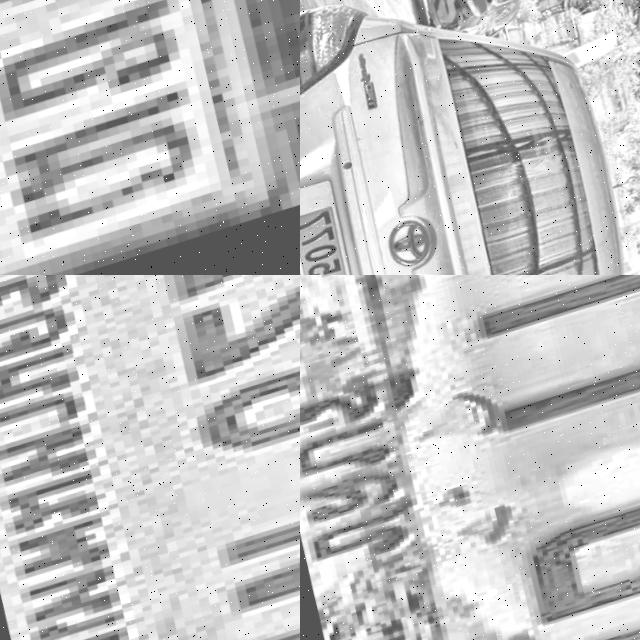license-plate: (300, 275, 640, 640), (0, 275, 300, 640), (0, 0, 300, 275), (300, 172, 376, 275)
